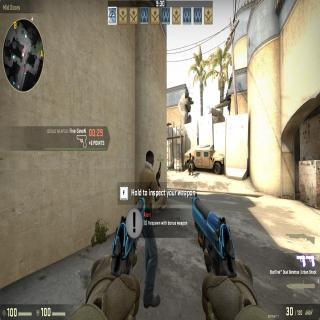CT-Body: (186, 153, 194, 175)
T-Body: (135, 147, 163, 306)
T-Head: (144, 151, 156, 172)
